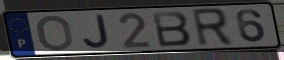2: (117, 12, 153, 50)
6: (234, 8, 268, 44)
B: (150, 10, 193, 48)
J: (80, 13, 112, 50)
O: (36, 14, 76, 53)
R: (189, 7, 236, 48)
